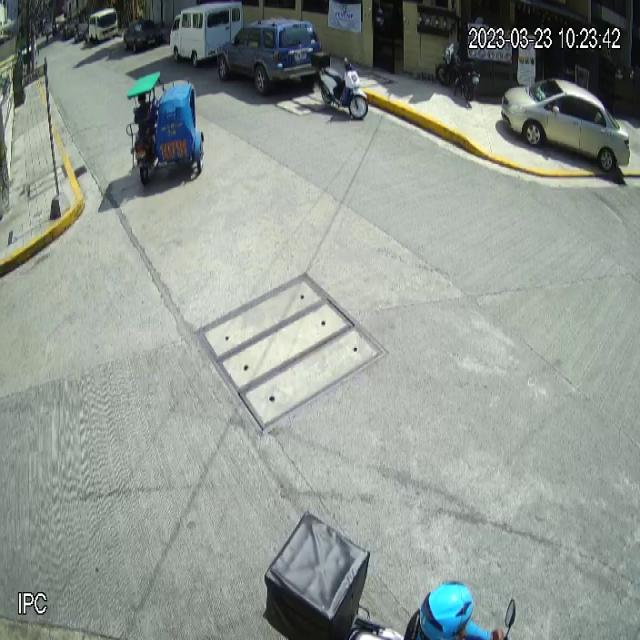Car: (500, 78, 630, 174), (218, 15, 322, 96)
Motorcycle: (310, 50, 369, 117)
Tricycle: (126, 72, 205, 186)
Van: (169, 2, 244, 68)
